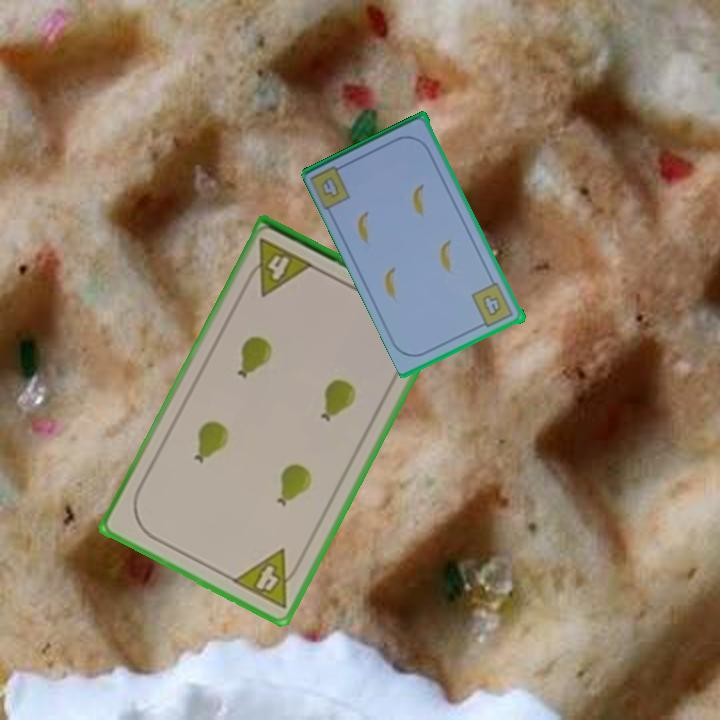4b: (468, 280, 517, 331), (308, 160, 354, 212)
4p: (228, 545, 306, 612), (241, 235, 317, 299)
